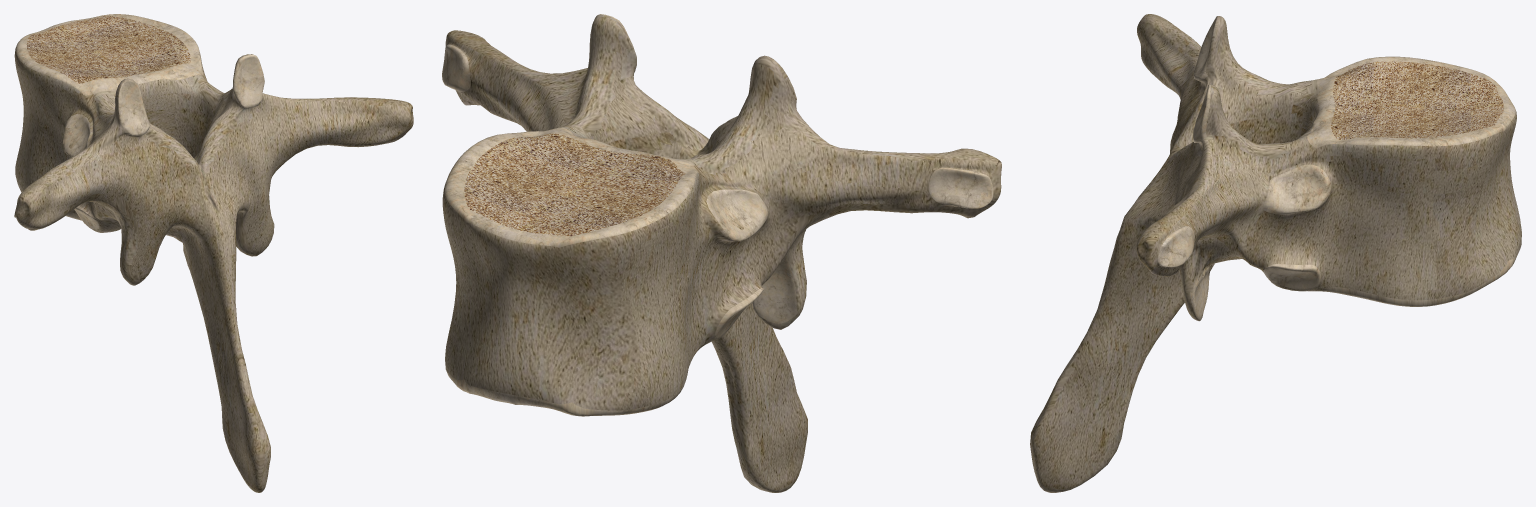
The model's file is thoracicvertebrae.glb.
3 renders of one model, left to right at view 1: azimuth 30°, elevation 25°; view 2: azimuth 150°, elevation 25°; view 3: azimuth 270°, elevation 25°, orthographic. The views are drawn at different scales.
Visible parts, largest first — view 1: Object_2, Object_3, Object_4; view 2: Object_2, Object_3, Object_4; view 3: Object_2, Object_4, Object_3.
Part boxes in pixels (<box>): Object_2: <box>14,47,413,492</box>; Object_3: <box>26,16,190,83</box>; Object_4: <box>14,14,264,229</box>; Object_2: <box>442,14,1001,492</box>; Object_3: <box>464,133,685,236</box>; Object_4: <box>442,14,993,416</box>; Object_2: <box>1030,14,1521,492</box>; Object_4: <box>1158,16,1517,319</box>; Object_3: <box>1331,61,1503,139</box>.
Bounding box in the file's own units: 5.15 × 4.66 × 4.71.
Materials: 3 (3 with a texture image).
